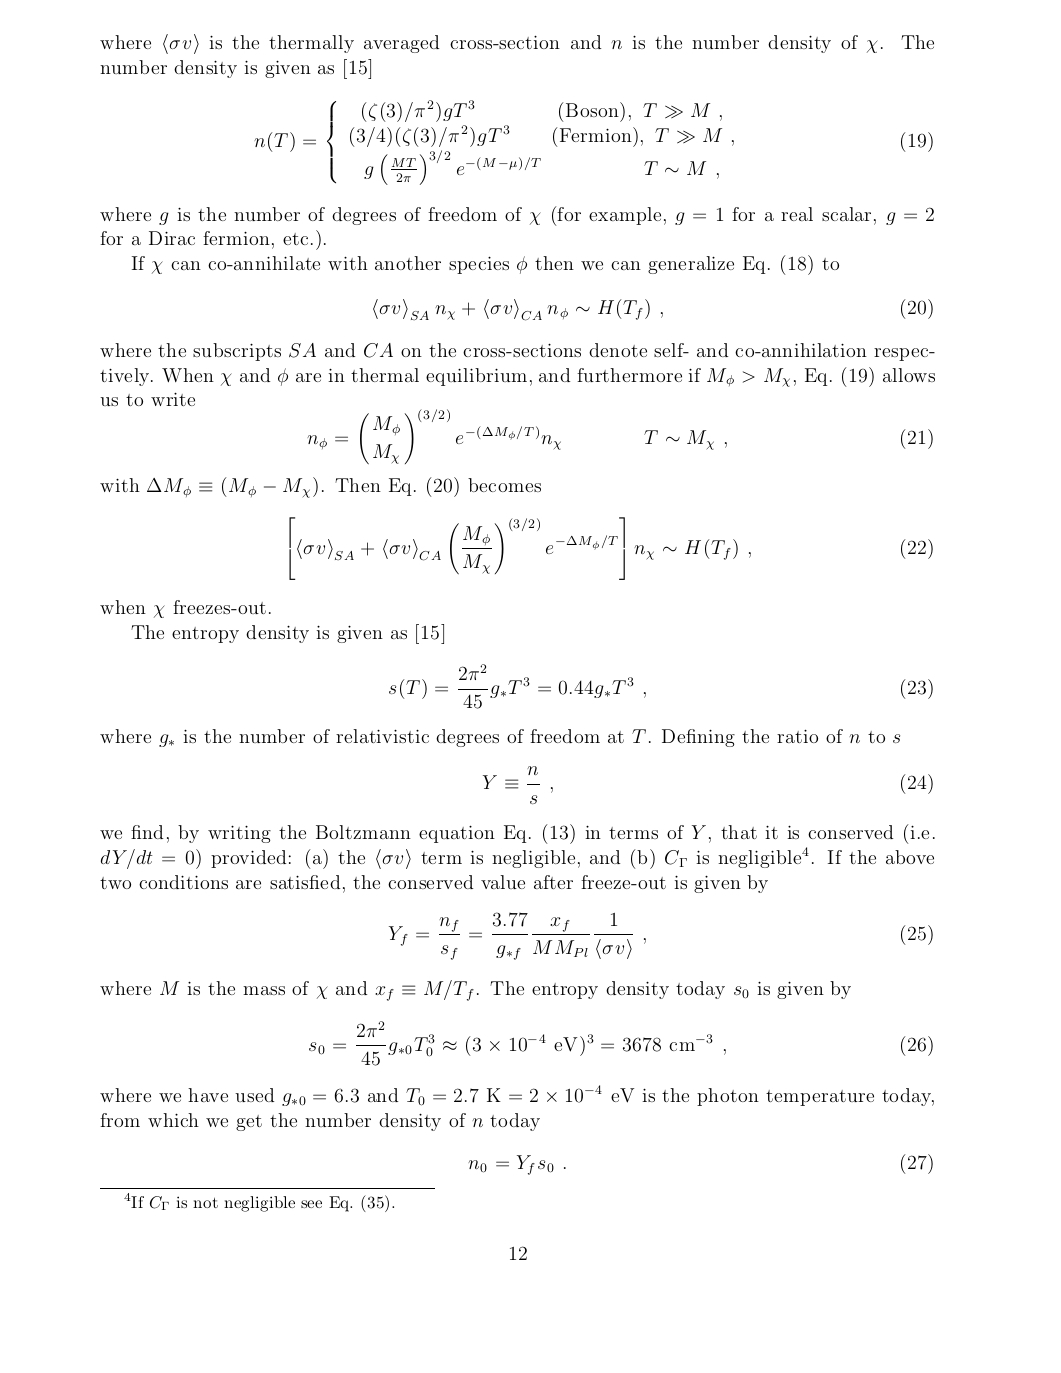formula: (254, 99, 932, 185), (289, 515, 932, 580), (306, 408, 932, 465), (309, 1020, 932, 1067), (388, 911, 932, 960), (389, 662, 932, 709), (481, 766, 932, 804), (373, 298, 932, 321), (468, 1153, 932, 1175)
